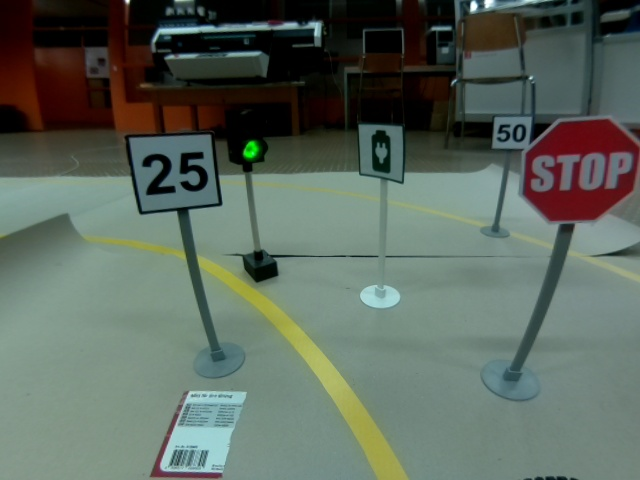battery: (357, 122, 405, 184)
speed25: (125, 131, 222, 214)
speed50: (490, 114, 533, 150)
stop: (519, 116, 640, 225)
trafficLightGreen: (223, 102, 268, 165)
